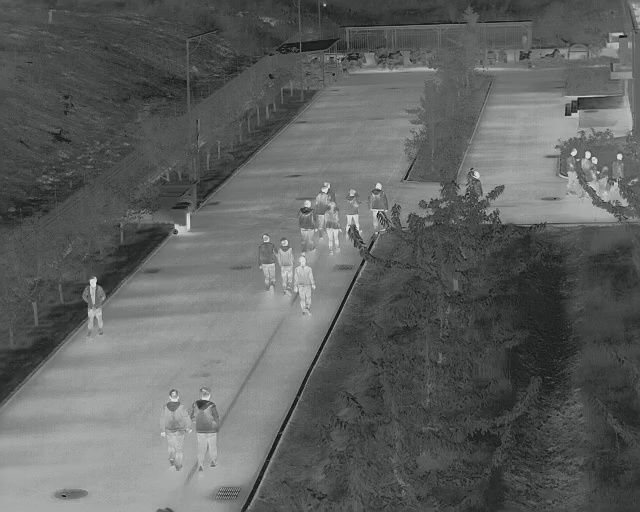person: (159, 389, 191, 473), (191, 387, 221, 473), (80, 276, 107, 340), (293, 255, 317, 318), (257, 232, 278, 296), (297, 198, 318, 257), (368, 180, 389, 231), (277, 238, 295, 296), (324, 203, 342, 256), (345, 188, 363, 238), (564, 146, 578, 195), (316, 180, 335, 212), (609, 152, 624, 188), (589, 156, 600, 189), (580, 151, 590, 185)
